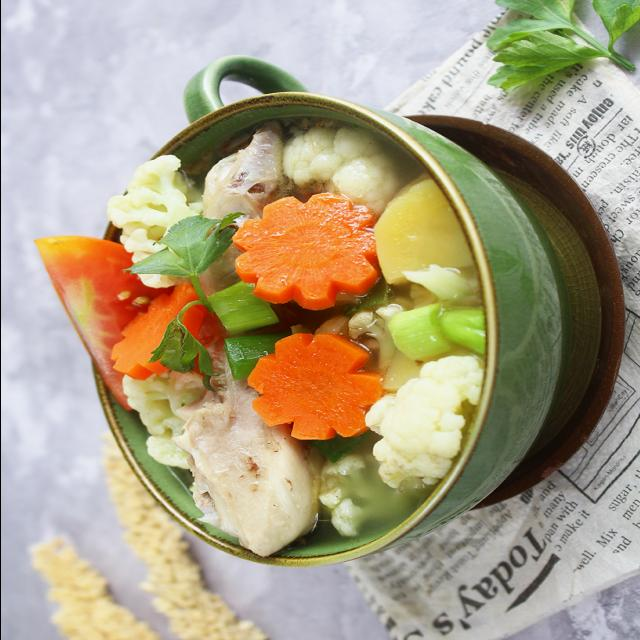sop: (106, 100, 488, 561)
